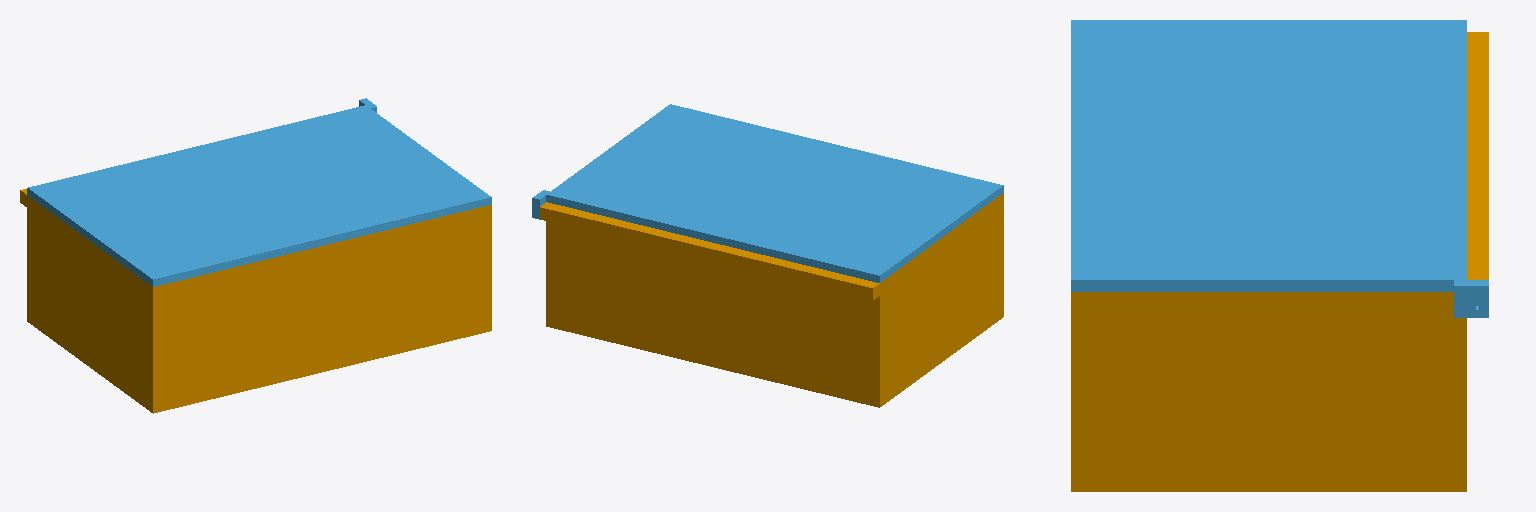
URDF robot description (box):
<?xml version='1.0' encoding='utf-8'?>
<robot name="box">
    <link name="base">
        <inertial>
            <origin xyz="-5.225100769619248e-07 0.0015910512615918493 0.018157511912391792" rpy="0.0 0.0 0.0" />
            <mass value="0.8200676346244169" />
            <inertia ixx="0.0011883210753799087" iyy="0.0021404281957400433" izz="0.0028646359930203616" ixy="1.96716908604706e-08" iyz="-3.82851877555032e-05" ixz="1.257306844171677e-08" />
        </inertial>
        <visual name="base_visual">
            <origin xyz="0.0 0.0 0.0" rpy="0.0 0.0 0.0" />
            <geometry>
                <mesh filename="meshes/base.stl" scale="0.001 0.001 0.001" />
            </geometry>
        </visual>
        <collision name="base_collision">
            <origin xyz="0.0 0.0 0.0" rpy="0.0 0.0 0.0" />
            <geometry>
                <mesh filename="meshes/base.stl" scale="0.001 0.001 0.001" />
            </geometry>
        </collision>
    </link>
    <link name="Lid">
        <inertial>
            <origin xyz="0.003987612405112389 -0.04727046184800195 0.06964307277489927" rpy="0.0 -0.0 0.0" />
            <mass value="0.29821870743090273" />
            <inertia ixx="0.0006956653417993236" iyy="0.0004924724197377165" izz="0.0002036722481585239" ixy="1.689656890575452e-07" iyz="4.86993286680353e-06" ixz="-2.62803475975811e-07" />
        </inertial>
        <visual name="Lid_visual">
            <origin xyz="-0.047500000670552045 -0.04750000074505785 0.07" rpy="-0.0 1.5707963267948966 0" />
            <geometry>
                <mesh filename="meshes/Lid.stl" scale="0.001 0.001 0.001" />
            </geometry>
        </visual>
        <collision name="Lid_collision">
            <origin xyz="-0.047500000670552045 -0.04750000074505785 0.07" rpy="-0.0 1.5707963267948966 0" />
            <geometry>
                <mesh filename="meshes/Lid.stl" scale="0.001 0.001 0.001" />
            </geometry>
        </collision>
    </link>
    <joint name="Revolute-1" type="revolute">
        <origin xyz="0.07 0.0475 0.0475" rpy="9.868649107779169e-17 -1.5707963267948966 0" />
        <parent link="base" />
        <child link="Lid" />
        <axis xyz="0.0 9.868649107779169e-17 1.0" />
        <limit lower="0.0" upper="3.141593" effort="1000000" velocity="1000000" />
    </joint>
</robot>

--- What the picture shows (computed from the rendered views, not written in the file) ---
3 views of the same robot in one strip: view 1: azimuth 30°, elevation 25°; view 2: azimuth 150°, elevation 25°; view 3: azimuth 270°, elevation 25° (orthographic).
Model box with 2 links and 1 joints (1 revolute), rooted at base, posed all joints at 0.
Visible links, largest first — view 1: base, Lid; view 2: base, Lid; view 3: Lid, base.
Boxes of the visible links, box(x1,y1,x2,y2) form: base: box(20, 189, 491, 413); Lid: box(27, 98, 491, 286); base: box(540, 193, 1003, 407); Lid: box(532, 104, 1003, 282); Lid: box(1071, 20, 1488, 317); base: box(1071, 32, 1488, 491).
Bounding box of the posed robot: 0.143 × 0.095 × 0.053 m (x, y, z).
2 mesh visuals loaded from 2 distinct referenced files (2 binary STL).
